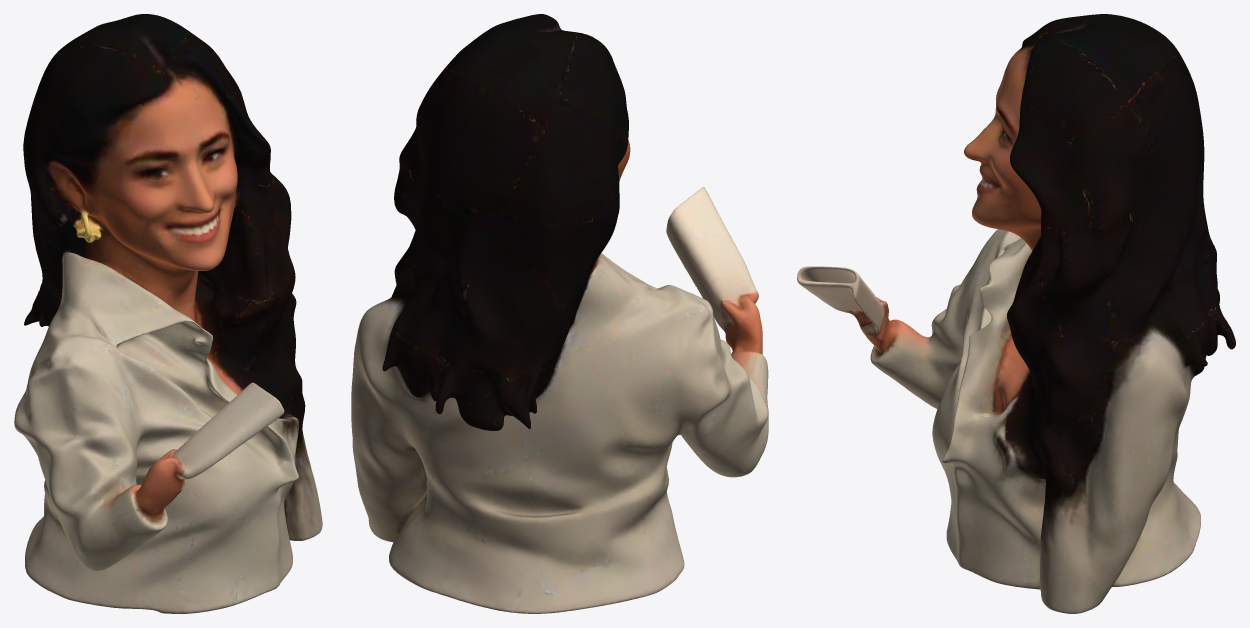
File: face_optimized_under2mb (1).glb
The picture shows the model from 3 angles, left to right: view 1: azimuth 30°, elevation 25°; view 2: azimuth 150°, elevation 25°; view 3: azimuth 270°, elevation 25°; orthographic projection. The views are drawn at different scales.
Size of the model in its own units: 1.21 by 1.9 by 1.47.
1 material, 1 textured.
